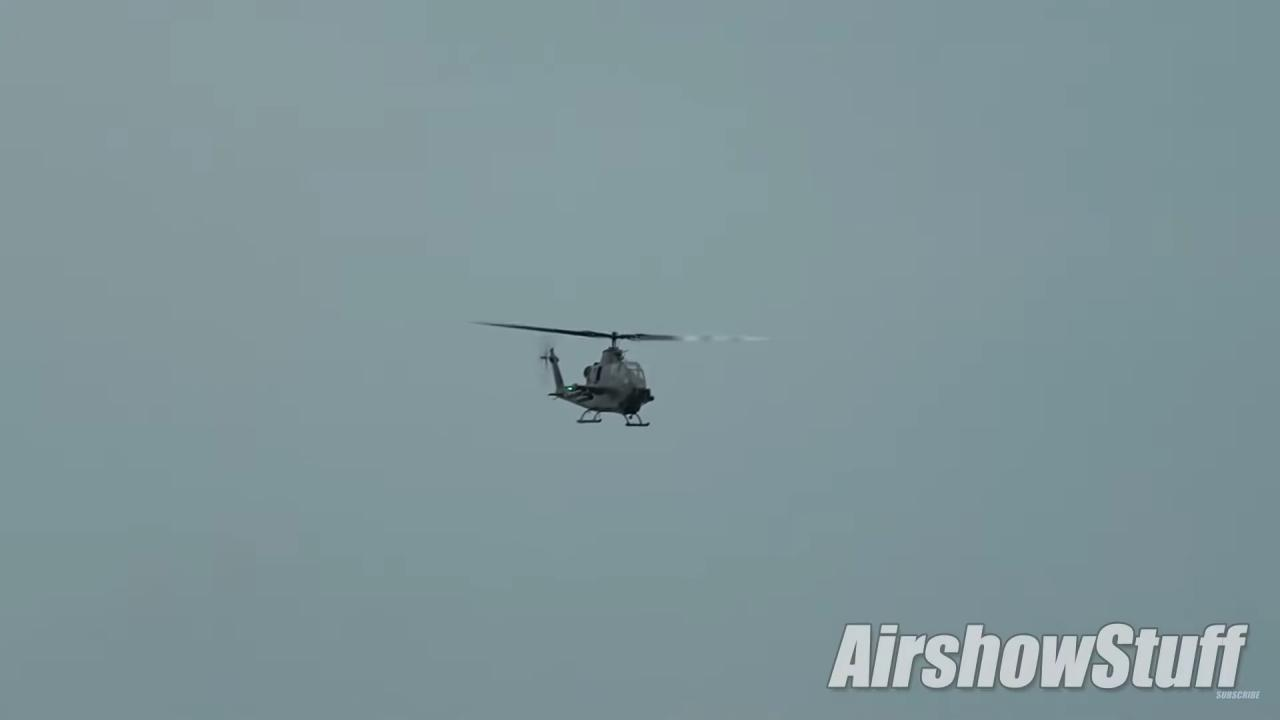Helicopter: (447, 281, 798, 476)
